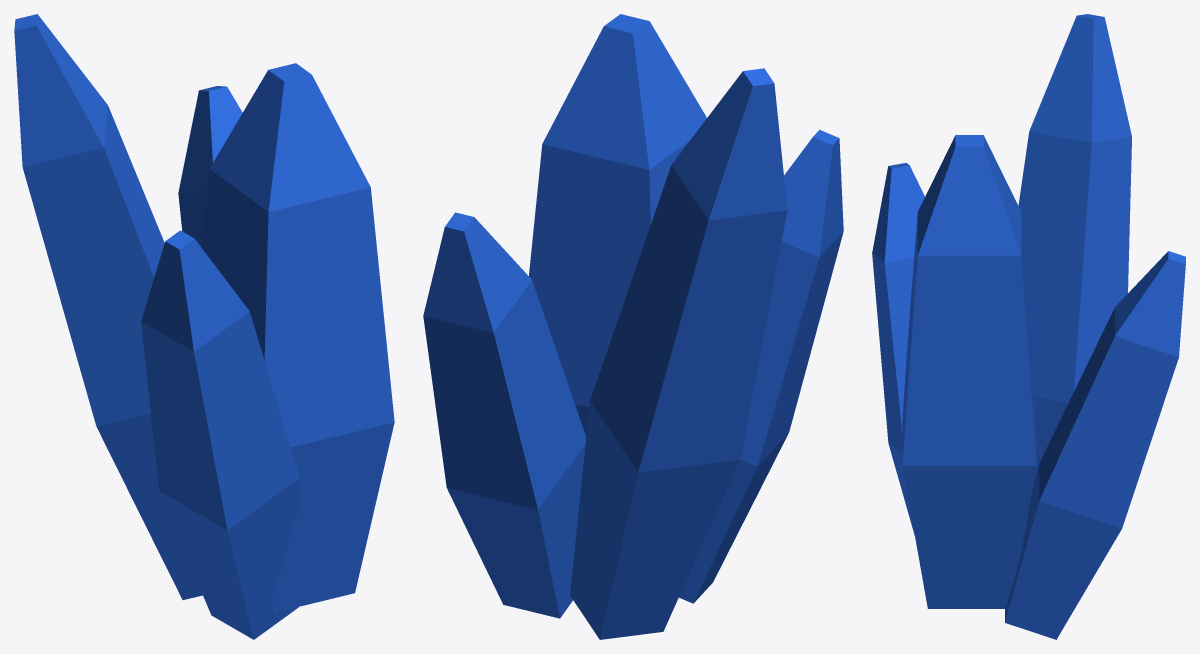
File: Crystal.fbx
The picture shows the model from 3 angles, left to right: view 1: azimuth 30°, elevation 25°; view 2: azimuth 150°, elevation 25°; view 3: azimuth 270°, elevation 25°; orthographic projection. The views are drawn at different scales.
Visible parts, largest first — view 1: Crystal; view 2: Crystal; view 3: Crystal.
Boxes of the visible parts, x1,y1,x2,y2 form: Crystal: (14,14,394,639); Crystal: (423,14,843,639); Crystal: (872,14,1185,639).
Size of the model in its own units: 152 by 290 by 160.
